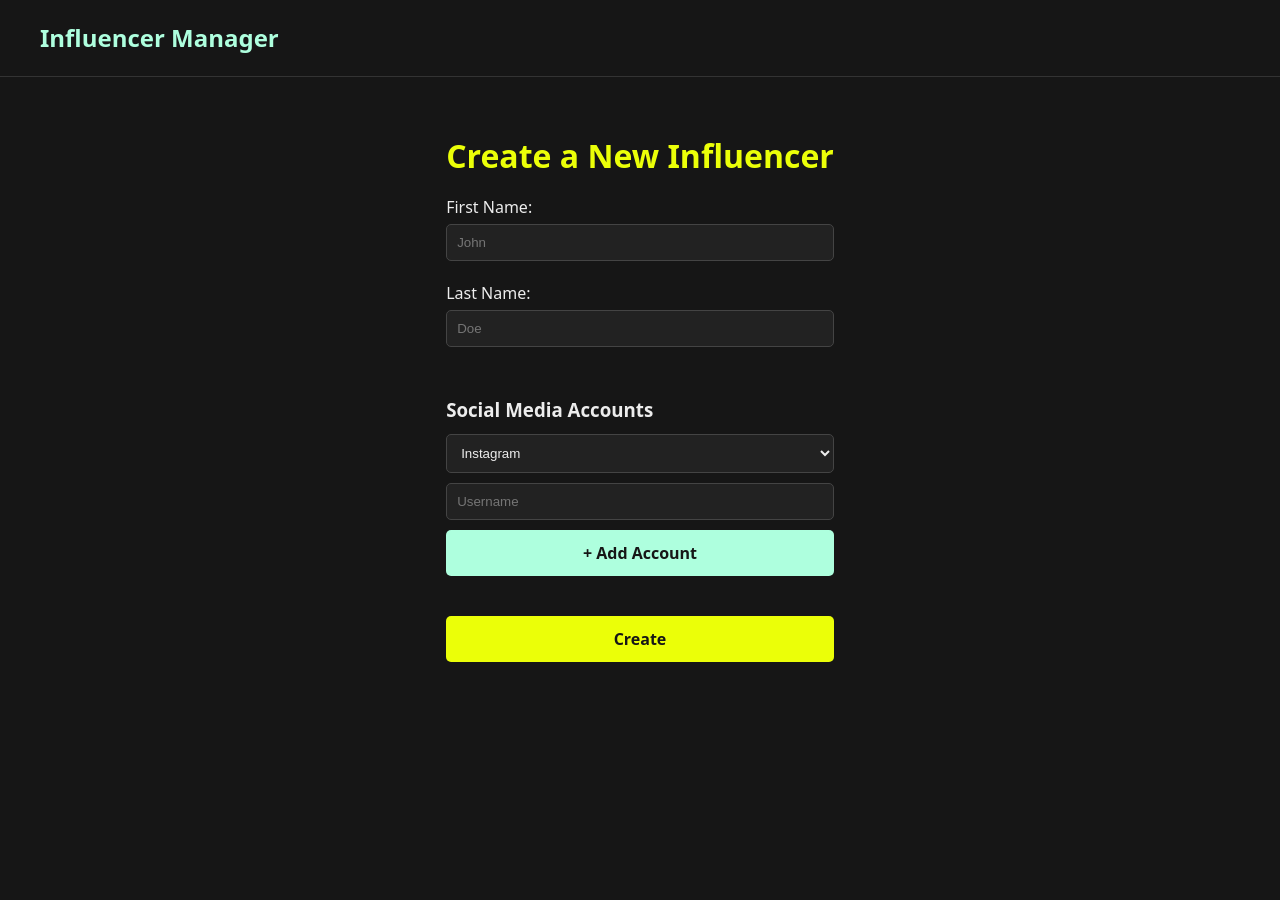
CreateInfluencerPage (Create mode) › shows validation errors for empty required fields
This screenshot has width=1280, height=900.
Expected: the text "required" is not shown
Click the button "Create": (640, 639) [446, 616, 834, 662]
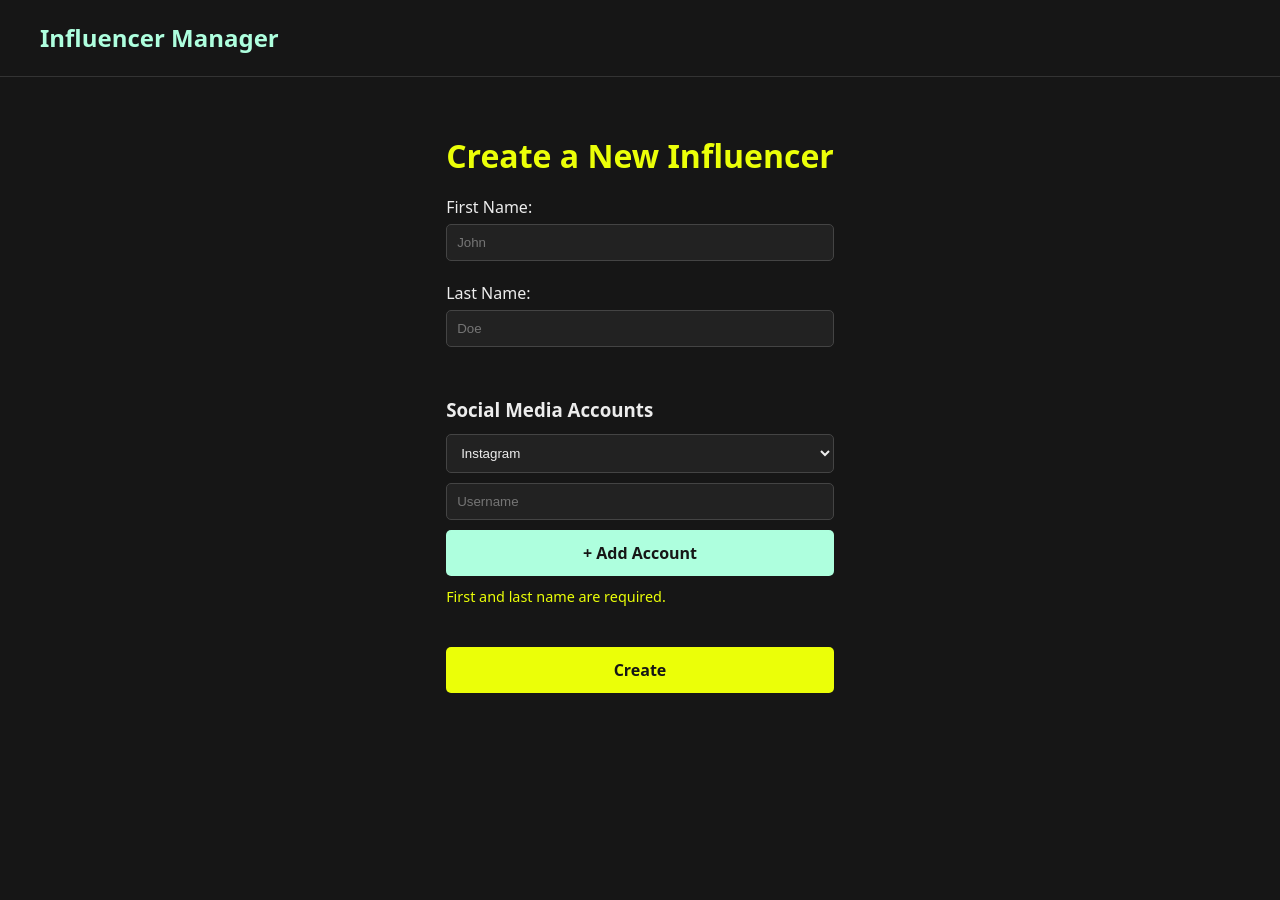
Expected: the text "First and last name are required." is shown, [446, 587, 666, 606]
